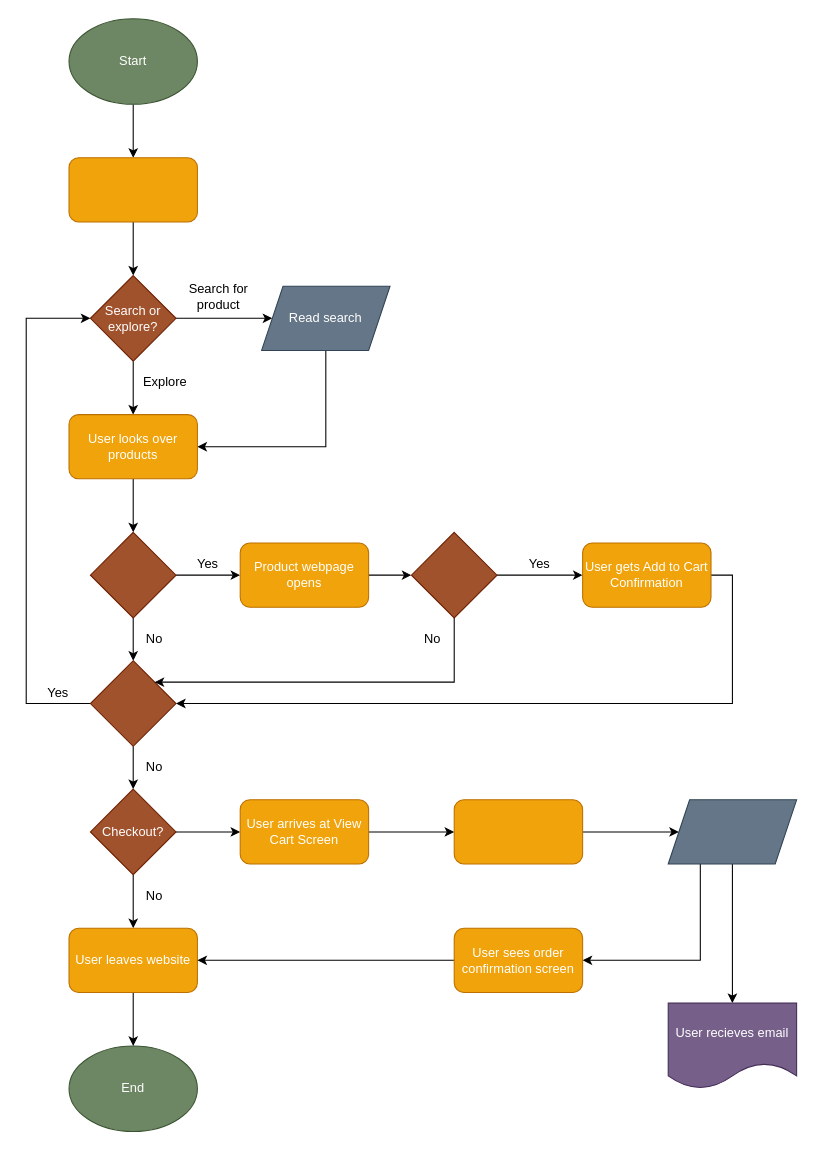
Some shapes in this 815 by 1150 pixel diagram are drawn without their labels. The shapes that lost their labels are listed below. From the top down, each one's box as (x1, y1, x2, y2) in pixels, then its label:
(68, 157, 197, 222): User enters website
(89, 531, 176, 618): View product?
(410, 531, 497, 618): Add item to cart?
(89, 660, 176, 746): Continue shopping?
(453, 799, 583, 864): View Payment screen
(667, 799, 797, 864): User payment information
